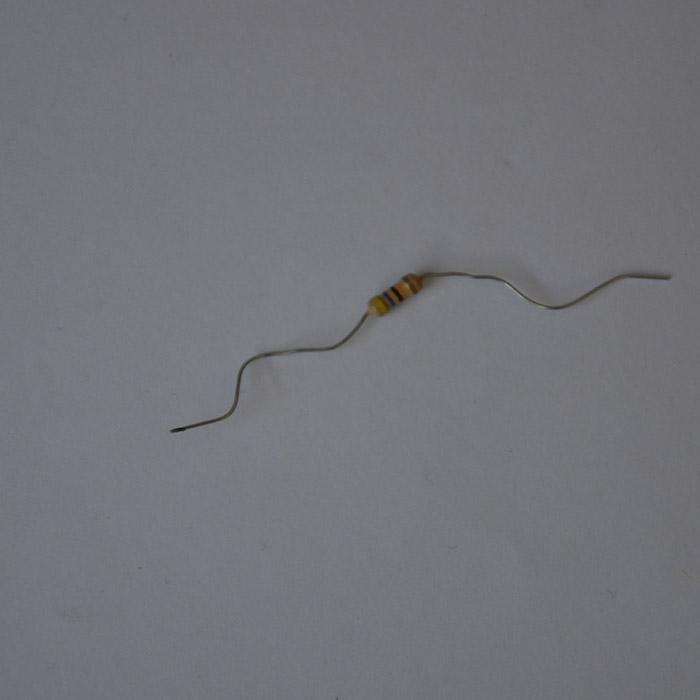resistor: (366, 273, 423, 318)
